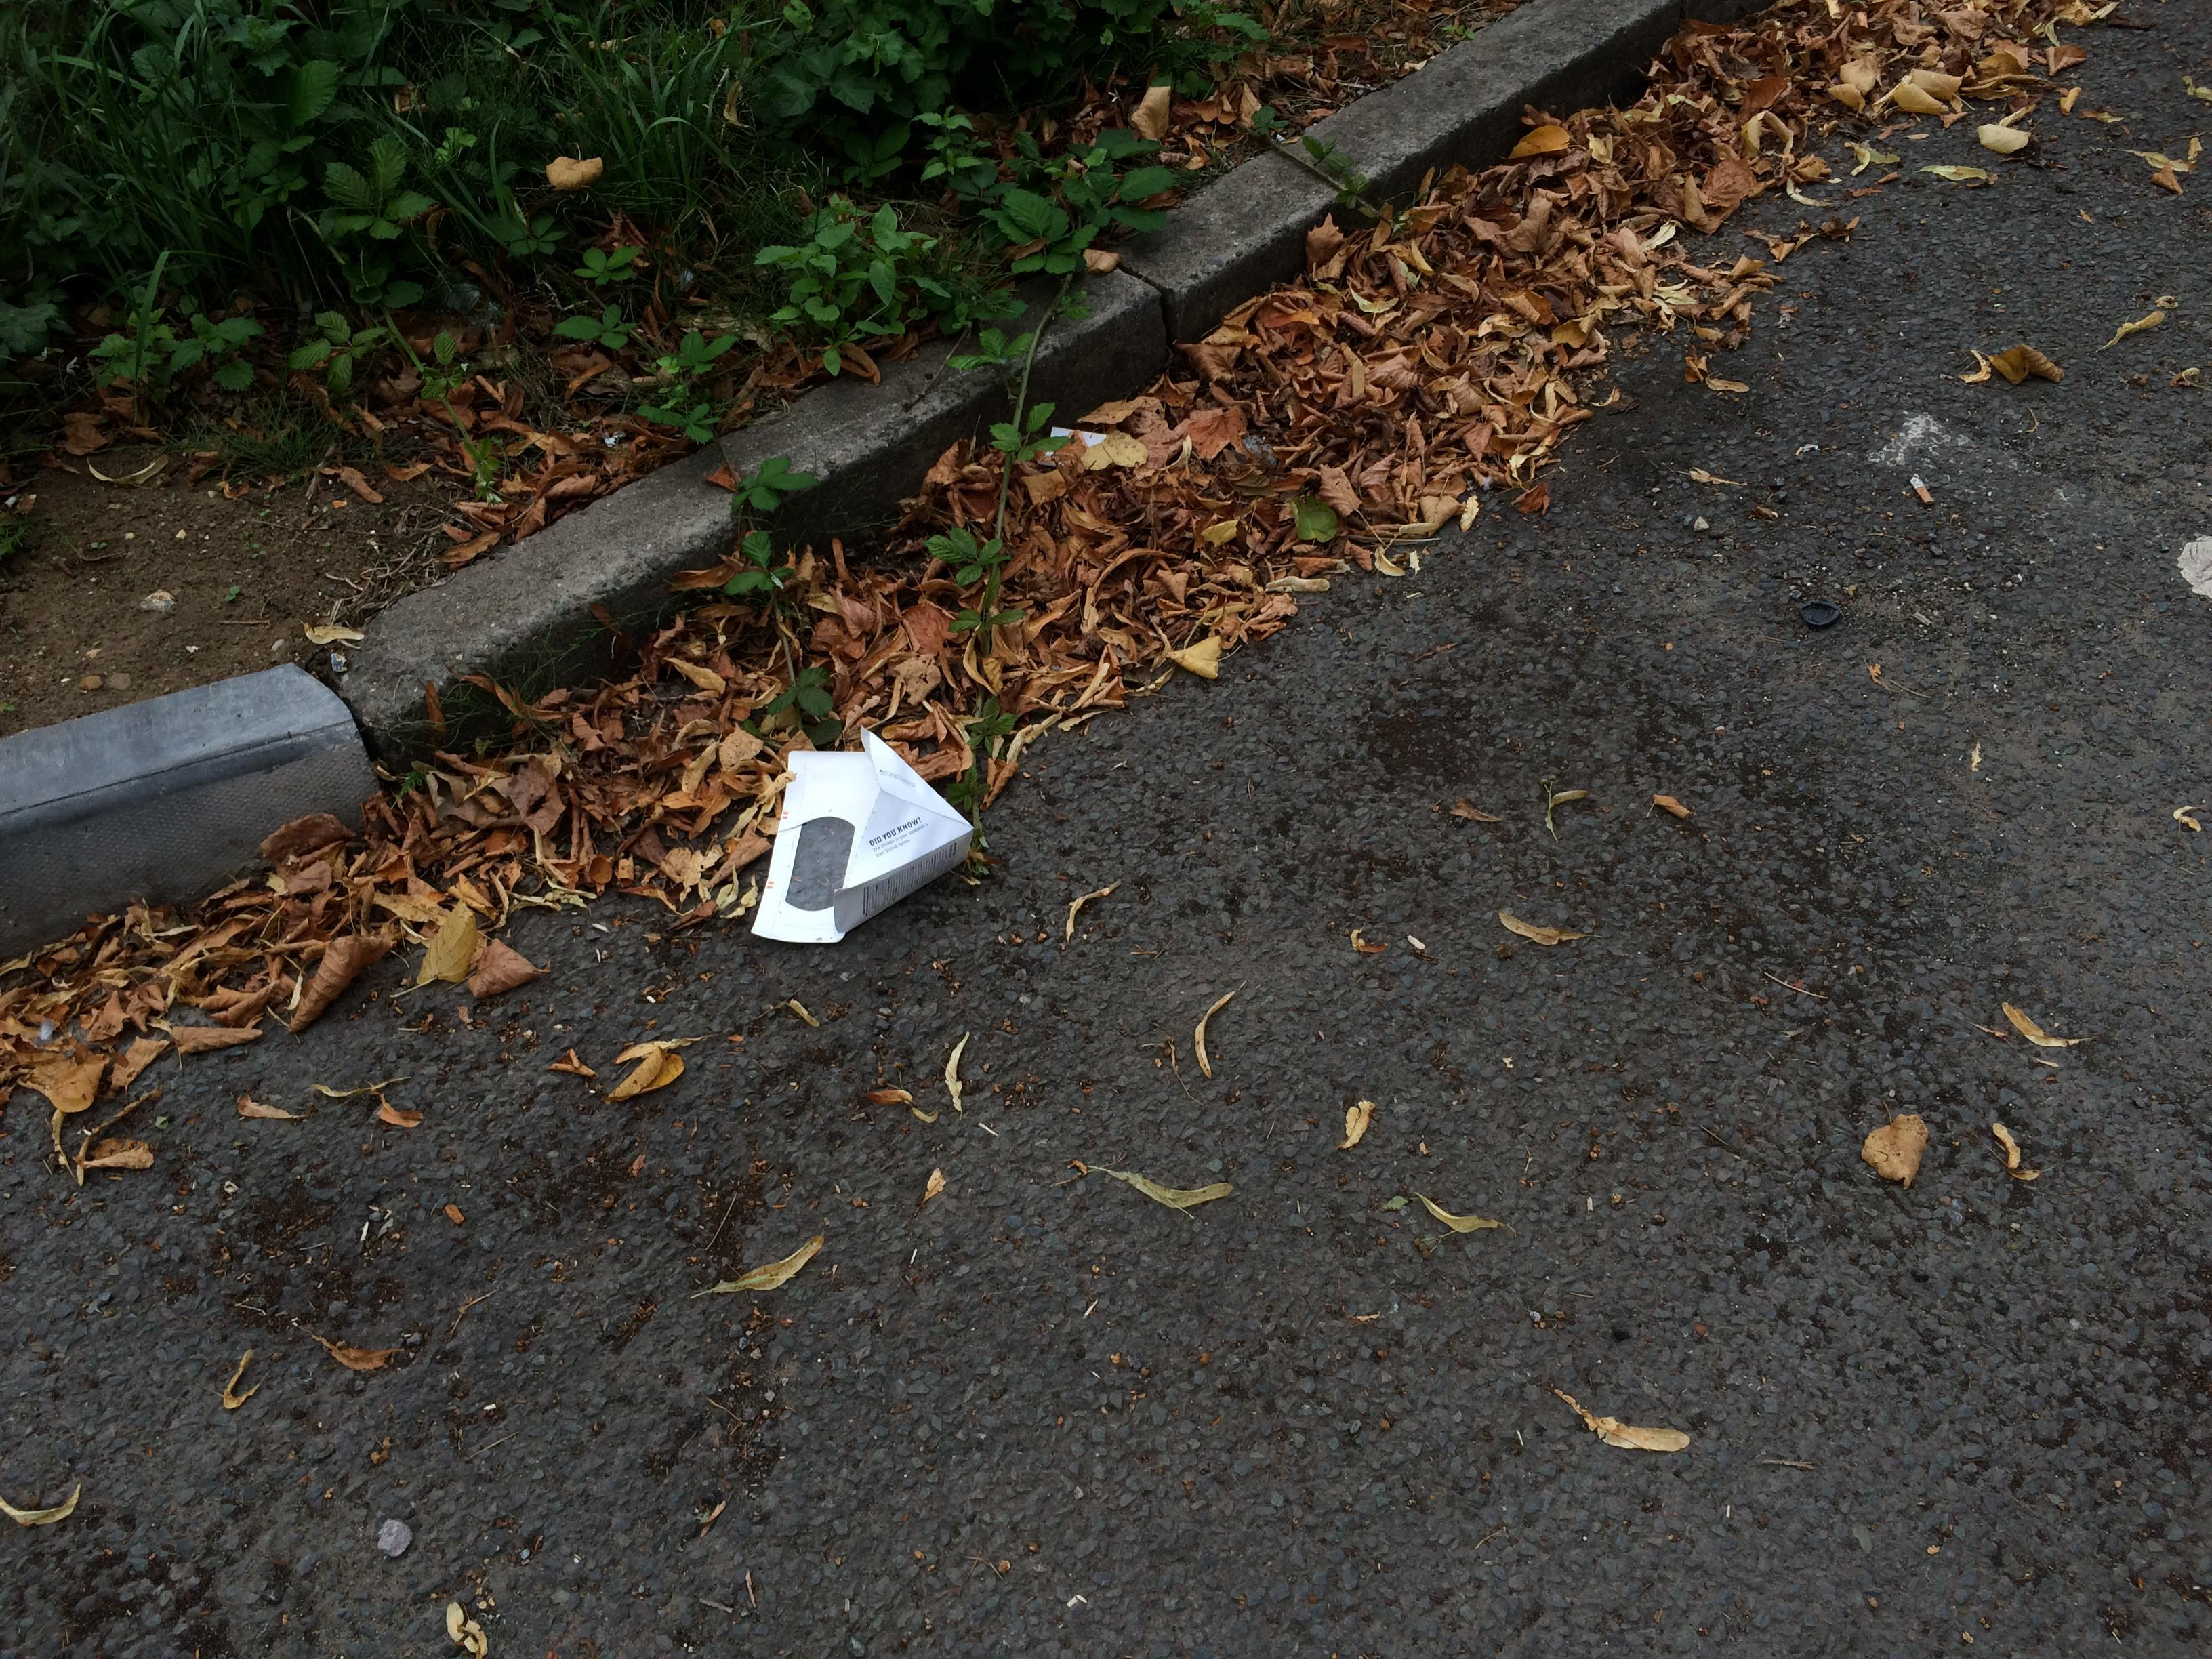Trash: (738, 714, 988, 955)
